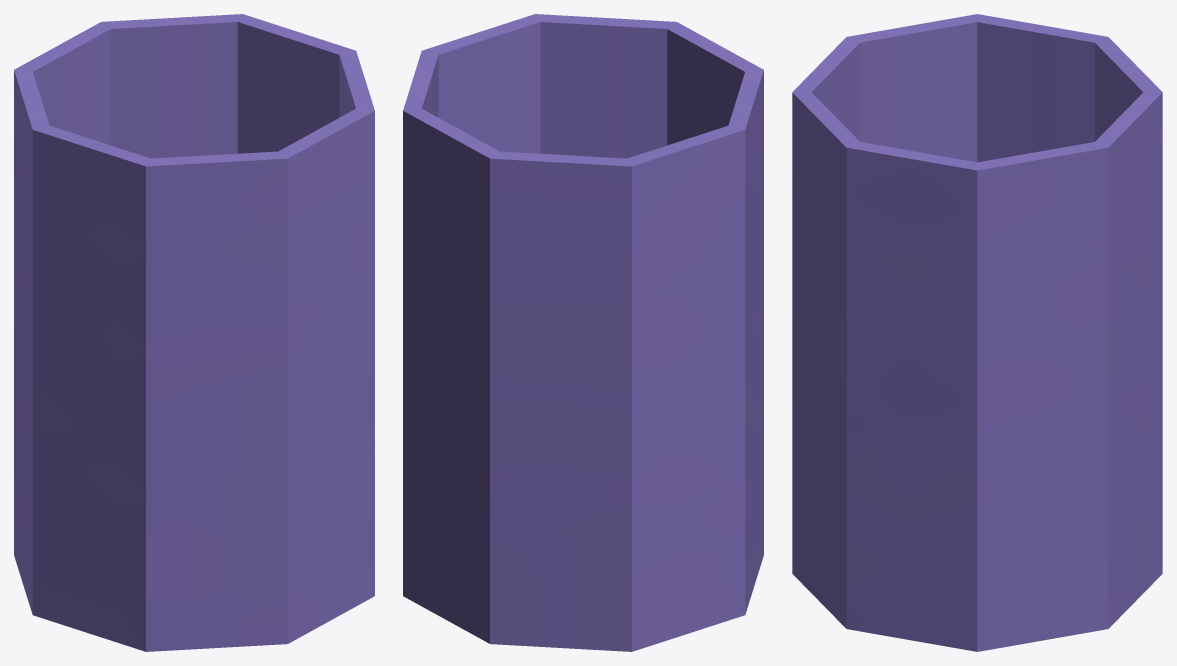
File: Cup_mini_3.fbx
3 renders of one model, left to right at view 1: azimuth 30°, elevation 25°; view 2: azimuth 150°, elevation 25°; view 3: azimuth 270°, elevation 25°, orthographic.
Parts seen in each view (by area): view 1: Cup_mini_3; view 2: Cup_mini_3; view 3: Cup_mini_3.
Boxes of the visible parts, x1,y1,x2,y2 form: Cup_mini_3: (14,14,374,651); Cup_mini_3: (403,14,763,651); Cup_mini_3: (792,14,1162,651).
Bounding box in the file's own units: 2.42 × 3.47 × 2.42.
